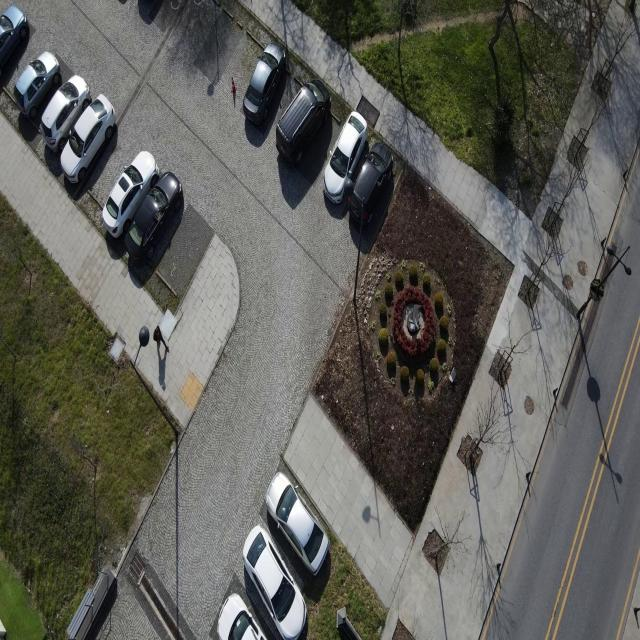p3rson: (154, 326, 169, 358)
